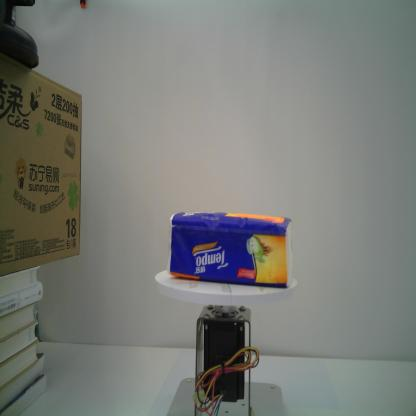Tissue: (165, 208, 295, 289)
